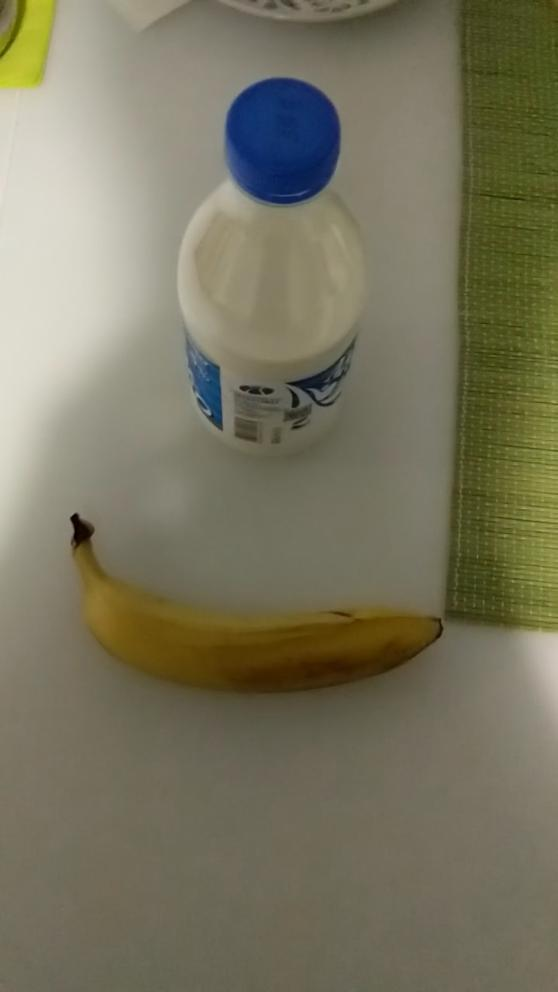banana: (34, 491, 490, 722)
milk: (164, 71, 373, 481)
